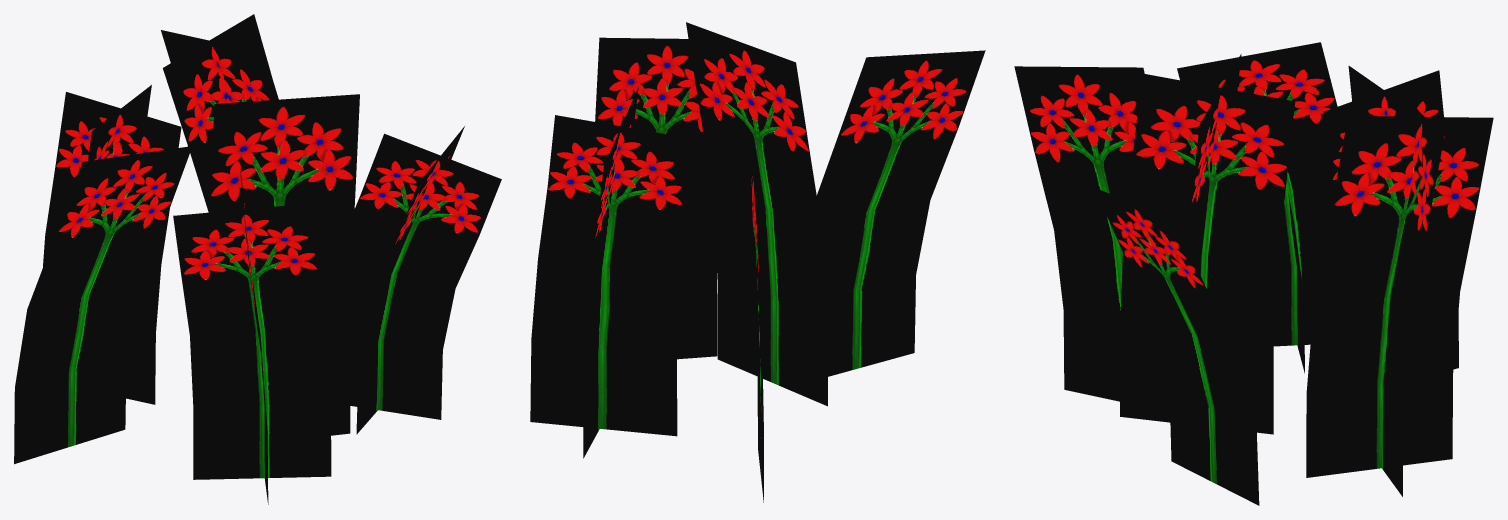
File: Flowers01.fbx
The picture shows the model from 3 angles, left to right: view 1: azimuth 30°, elevation 25°; view 2: azimuth 150°, elevation 25°; view 3: azimuth 270°, elevation 25°; orthographic projection. The views are drawn at different scales.
Visible parts, largest first — view 1: Flowers01_LOD0; view 2: Flowers01_LOD0; view 3: Flowers01_LOD0.
Part boxes in pixels (x1=…): Flowers01_LOD0: x1=14, y1=14, x2=501, y2=504; Flowers01_LOD0: x1=530, y1=22, x2=985, y2=502; Flowers01_LOD0: x1=1014, y1=42, x2=1493, y2=505.
Size of what is drawn, in the model's own units: 0.5786 by 0.4654 by 0.5713.
